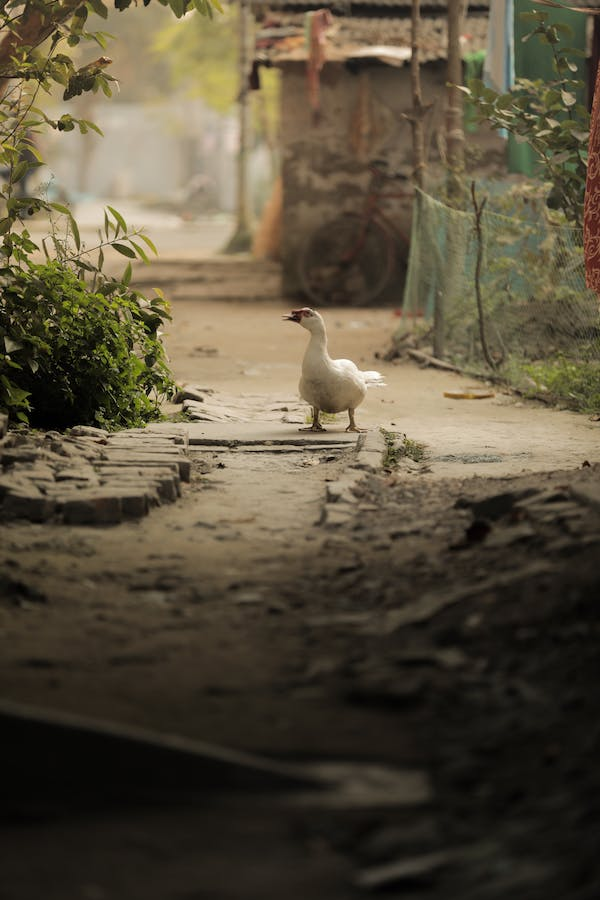Walking: (267, 270, 395, 461)
